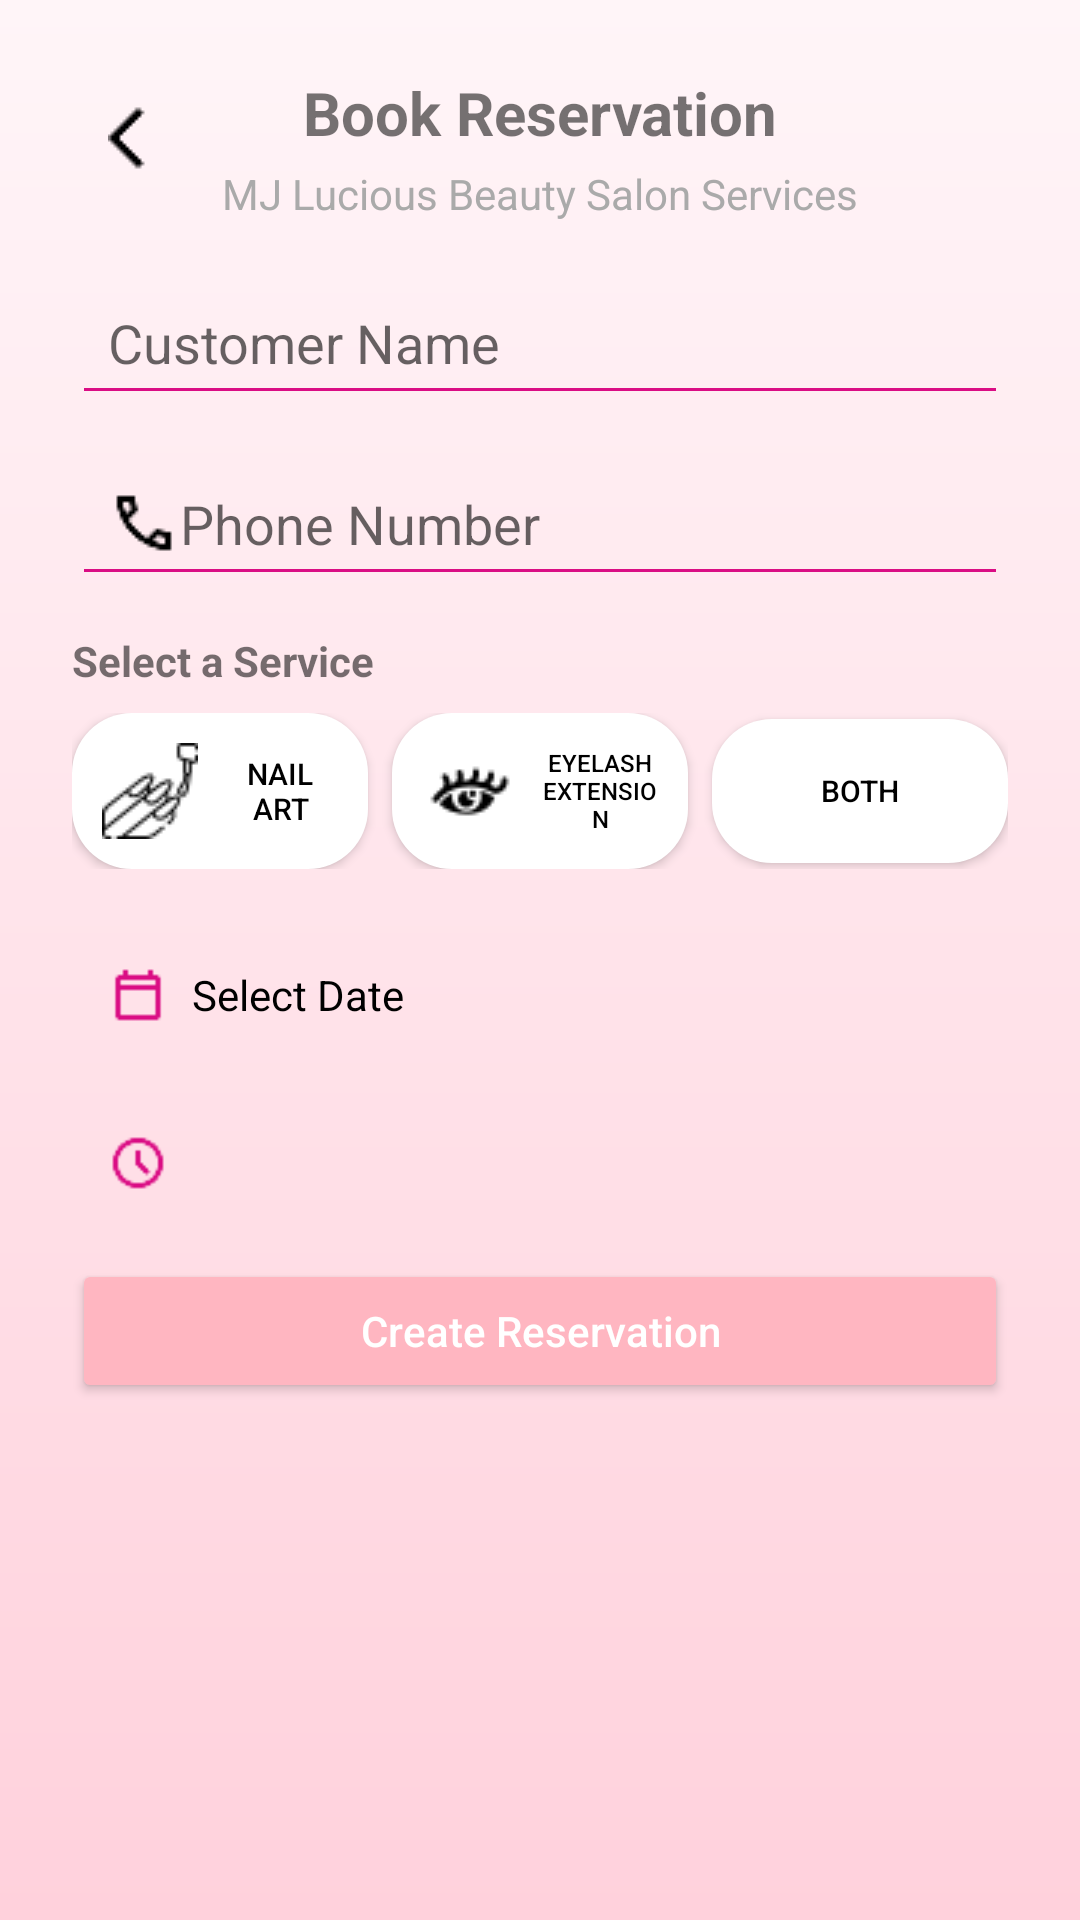

Point at icon controls on the screen. Image size 1080 × 1920, points as (x,y).
back: (126,138)
calendar: (138,995)
clock: (138,1163)
